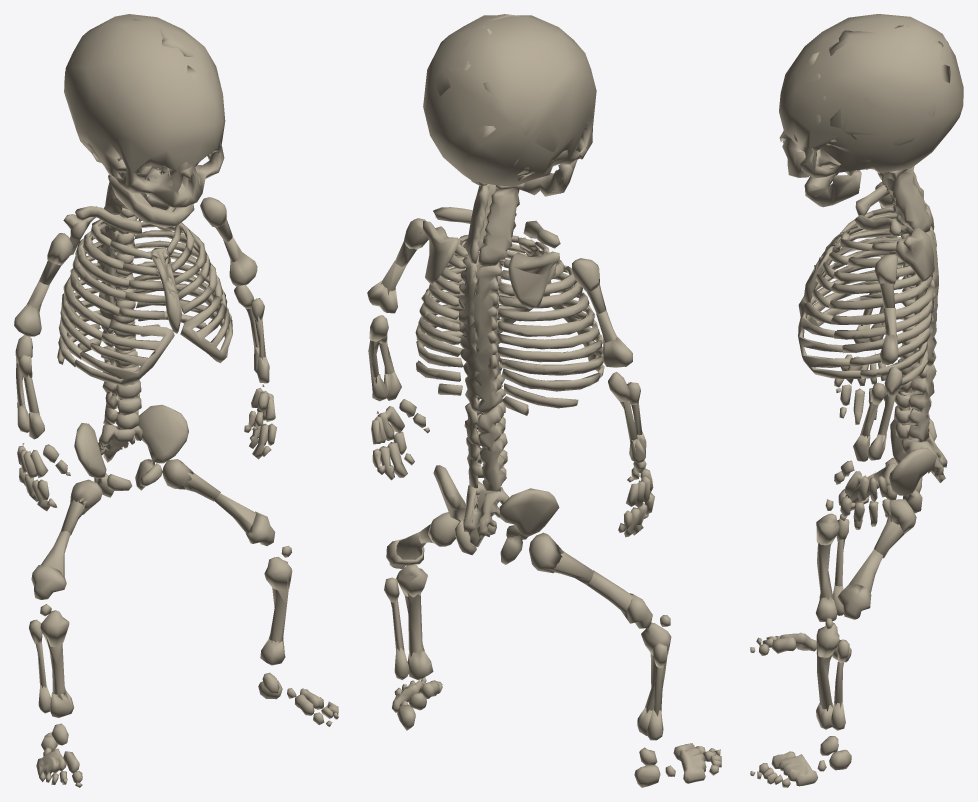
File: pediatric_neonate_male.skeletal.LOD3.glb
3 views of the same model, side by side, from view 1: azimuth 30°, elevation 25°; view 2: azimuth 150°, elevation 25°; view 3: azimuth 270°, elevation 25° (orthographic). The views are drawn at different scales.
Visible parts, largest first — view 1: PEDIATRIC.NEONATE.MALE.SKELETAL.CARTILAGE_TRUNK, PEDIATRIC.NEONATE.MALE.SKELETAL.CARTILAGE_HEAD, PEDIATRIC.NEONATE.MALE.SKELETAL.CARTILAGE_LEGS, PEDIATRIC.NEONATE.MALE.SKELETAL.CARTILAGE_ARMS, PEDIATRIC.NEONATE.MALE.SKELETAL.RIBS_CORTICAL, PEDIATRIC.NEONATE.MALE.SKELETAL.TIBIAE_CORTICAL, PEDIATRIC.NEONATE.MALE.SKELETAL.FEMORA_LOWER_CORTICAL, PEDIATRIC.NEONATE.MALE.SKELETAL.CRANIUM_CORTICAL, PEDIATRIC.NEONATE.MALE.SKELETAL.FEMORA_UPPER_CORTICAL, PEDIATRIC.NEONATE.MALE.SKELETAL.RADII_CORTICAL, PEDIATRIC.NEONATE.MALE.SKELETAL.HUMERI_LOWER_CORTICAL; view 2: PEDIATRIC.NEONATE.MALE.SKELETAL.CARTILAGE_TRUNK, PEDIATRIC.NEONATE.MALE.SKELETAL.CARTILAGE_HEAD, PEDIATRIC.NEONATE.MALE.SKELETAL.CARTILAGE_LEGS, PEDIATRIC.NEONATE.MALE.SKELETAL.CARTILAGE_ARMS, PEDIATRIC.NEONATE.MALE.SKELETAL.RIBS_CORTICAL, PEDIATRIC.NEONATE.MALE.SKELETAL.CRANIUM_CORTICAL, PEDIATRIC.NEONATE.MALE.SKELETAL.FEMORA_LOWER_CORTICAL, PEDIATRIC.NEONATE.MALE.SKELETAL.TIBIAE_CORTICAL, PEDIATRIC.NEONATE.MALE.SKELETAL.FEMORA_UPPER_CORTICAL, PEDIATRIC.NEONATE.MALE.SKELETAL.FIBULAE_CORTICAL, PEDIATRIC.NEONATE.MALE.SKELETAL.HUMERI_LOWER_CORTICAL, PEDIATRIC.NEONATE.MALE.SKELETAL.ULNAE_CORTICAL (+1 smaller); view 3: PEDIATRIC.NEONATE.MALE.SKELETAL.CARTILAGE_HEAD, PEDIATRIC.NEONATE.MALE.SKELETAL.CARTILAGE_TRUNK, PEDIATRIC.NEONATE.MALE.SKELETAL.CARTILAGE_LEGS, PEDIATRIC.NEONATE.MALE.SKELETAL.CARTILAGE_ARMS, PEDIATRIC.NEONATE.MALE.SKELETAL.CRANIUM_CORTICAL, PEDIATRIC.NEONATE.MALE.SKELETAL.RIBS_CORTICAL, PEDIATRIC.NEONATE.MALE.SKELETAL.TIBIAE_CORTICAL, PEDIATRIC.NEONATE.MALE.SKELETAL.FEMORA_LOWER_CORTICAL, PEDIATRIC.NEONATE.MALE.SKELETAL.FEMORA_UPPER_CORTICAL, PEDIATRIC.NEONATE.MALE.SKELETAL.FIBULAE_CORTICAL, PEDIATRIC.NEONATE.MALE.SKELETAL.ULNAE_CORTICAL, PEDIATRIC.NEONATE.MALE.SKELETAL.RADII_CORTICAL.
Part boxes in pixels (x1,y1,x2,y2): PEDIATRIC.NEONATE.MALE.SKELETAL.CARTILAGE_TRUNK: (57,172,232,497); PEDIATRIC.NEONATE.MALE.SKELETAL.CARTILAGE_HEAD: (64,14,225,227); PEDIATRIC.NEONATE.MALE.SKELETAL.CARTILAGE_LEGS: (29,459,338,787); PEDIATRIC.NEONATE.MALE.SKELETAL.CARTILAGE_ARMS: (14,197,276,510); PEDIATRIC.NEONATE.MALE.SKELETAL.RIBS_CORTICAL: (58,208,227,361); PEDIATRIC.NEONATE.MALE.SKELETAL.TIBIAE_CORTICAL: (46,578,288,699); PEDIATRIC.NEONATE.MALE.SKELETAL.FEMORA_LOWER_CORTICAL: (41,493,255,576); PEDIATRIC.NEONATE.MALE.SKELETAL.CRANIUM_CORTICAL: (64,19,221,206); PEDIATRIC.NEONATE.MALE.SKELETAL.FEMORA_UPPER_CORTICAL: (60,472,220,535); PEDIATRIC.NEONATE.MALE.SKELETAL.RADII_CORTICAL: (23,298,265,414); PEDIATRIC.NEONATE.MALE.SKELETAL.HUMERI_LOWER_CORTICAL: (27,236,242,311); PEDIATRIC.NEONATE.MALE.SKELETAL.CARTILAGE_TRUNK: (415,180,604,564); PEDIATRIC.NEONATE.MALE.SKELETAL.CARTILAGE_HEAD: (423,15,596,196); PEDIATRIC.NEONATE.MALE.SKELETAL.CARTILAGE_LEGS: (384,512,721,787); PEDIATRIC.NEONATE.MALE.SKELETAL.CARTILAGE_ARMS: (367,218,654,537); PEDIATRIC.NEONATE.MALE.SKELETAL.RIBS_CORTICAL: (416,236,603,414); PEDIATRIC.NEONATE.MALE.SKELETAL.CRANIUM_CORTICAL: (424,14,592,180); PEDIATRIC.NEONATE.MALE.SKELETAL.FEMORA_LOWER_CORTICAL: (396,532,634,613); PEDIATRIC.NEONATE.MALE.SKELETAL.TIBIAE_CORTICAL: (404,592,668,713); PEDIATRIC.NEONATE.MALE.SKELETAL.FEMORA_UPPER_CORTICAL: (418,524,593,584); PEDIATRIC.NEONATE.MALE.SKELETAL.FIBULAE_CORTICAL: (390,599,663,716); PEDIATRIC.NEONATE.MALE.SKELETAL.HUMERI_LOWER_CORTICAL: (380,261,617,342); PEDIATRIC.NEONATE.MALE.SKELETAL.ULNAE_CORTICAL: (368,340,637,443); PEDIATRIC.NEONATE.MALE.SKELETAL.CARTILAGE_HEAD: (779,14,963,207); PEDIATRIC.NEONATE.MALE.SKELETAL.CARTILAGE_TRUNK: (798,166,947,512); PEDIATRIC.NEONATE.MALE.SKELETAL.CARTILAGE_LEGS: (750,457,916,787); PEDIATRIC.NEONATE.MALE.SKELETAL.CARTILAGE_ARMS: (834,182,902,529); PEDIATRIC.NEONATE.MALE.SKELETAL.CRANIUM_CORTICAL: (783,25,959,174); PEDIATRIC.NEONATE.MALE.SKELETAL.RIBS_CORTICAL: (829,209,932,380); PEDIATRIC.NEONATE.MALE.SKELETAL.TIBIAE_CORTICAL: (817,541,833,711); PEDIATRIC.NEONATE.MALE.SKELETAL.FEMORA_LOWER_CORTICAL: (845,473,883,593); PEDIATRIC.NEONATE.MALE.SKELETAL.FEMORA_UPPER_CORTICAL: (873,467,904,558); PEDIATRIC.NEONATE.MALE.SKELETAL.FIBULAE_CORTICAL: (834,539,844,708); PEDIATRIC.NEONATE.MALE.SKELETAL.ULNAE_CORTICAL: (877,306,895,459); PEDIATRIC.NEONATE.MALE.SKELETAL.RADII_CORTICAL: (860,292,880,438).
Size of the model in its own units: 0.2147 by 0.4767 by 0.1324.
